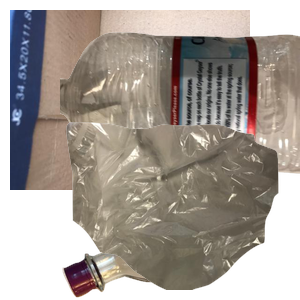cardboard: (10, 10, 250, 190)
glass: (60, 180, 300, 300)
plastic: (60, 30, 300, 196)
trash: (64, 120, 300, 300)
